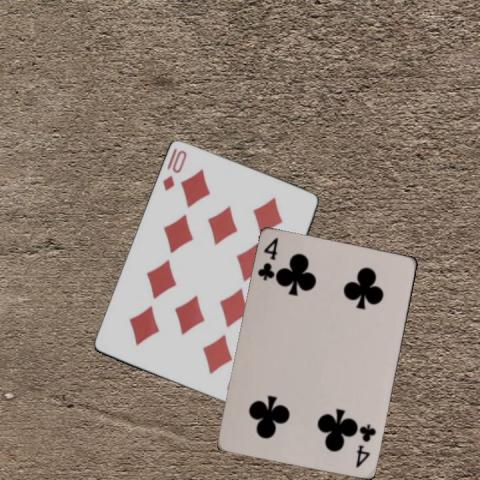10d: (160, 147, 189, 193)
4c: (353, 421, 378, 470), (255, 235, 280, 283)
